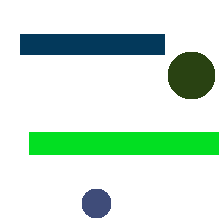circle: (168, 52, 214, 98), (82, 189, 110, 217)
rectangle: (29, 132, 218, 154), (20, 34, 164, 54)
